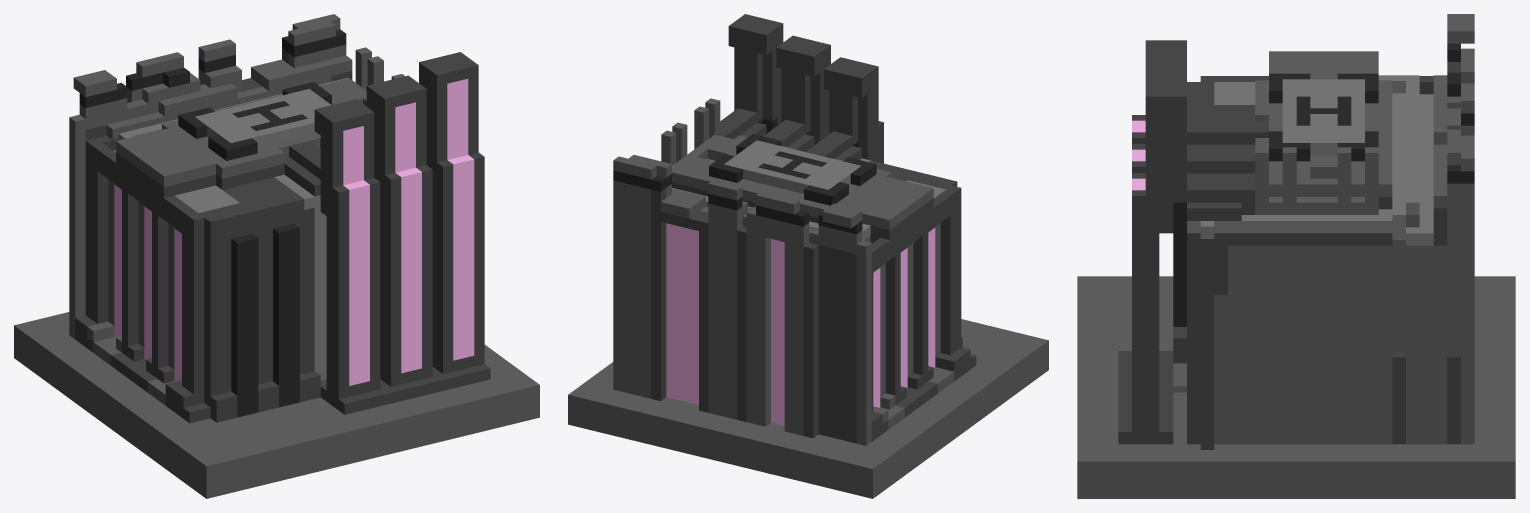
The model's file is _g_logistic_4.obj.
The picture shows the model from 3 angles, left to right: view 1: azimuth 30°, elevation 25°; view 2: azimuth 150°, elevation 25°; view 3: azimuth 270°, elevation 25°; orthographic projection. The views are drawn at different scales.
Size of the model in its own units: 3.2 by 3.1 by 3.2.
